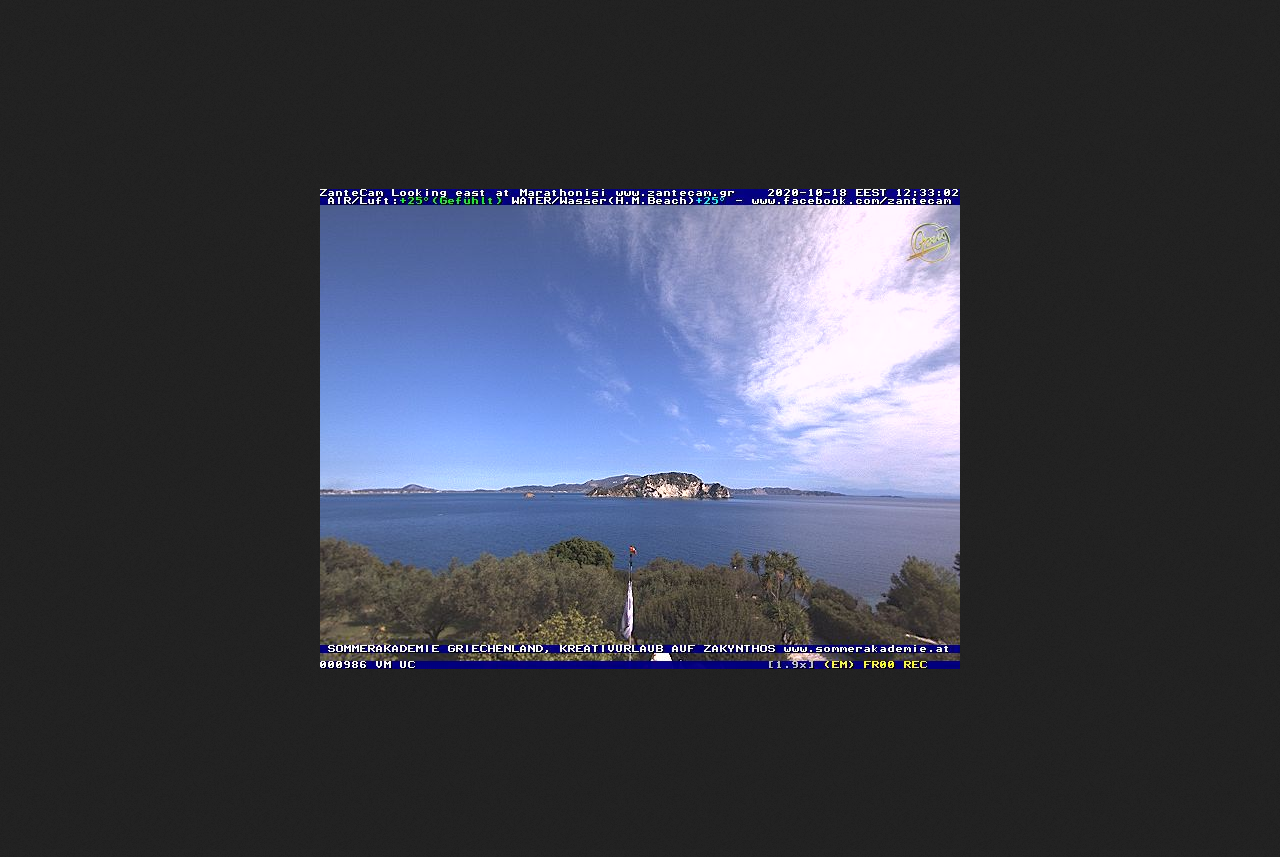no: (616, 579, 635, 644)
